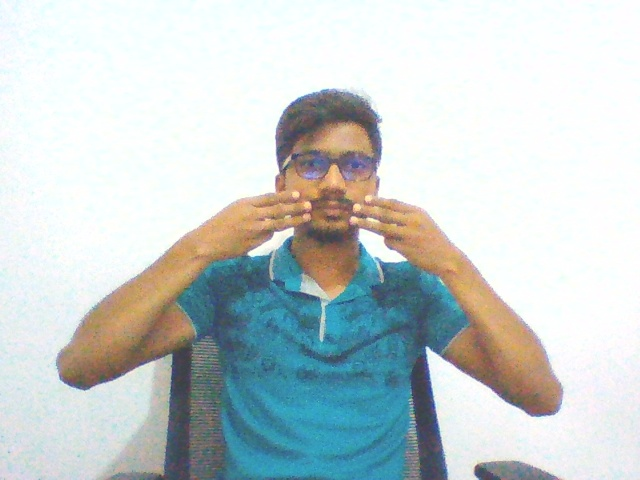cat: (186, 176, 467, 281)
